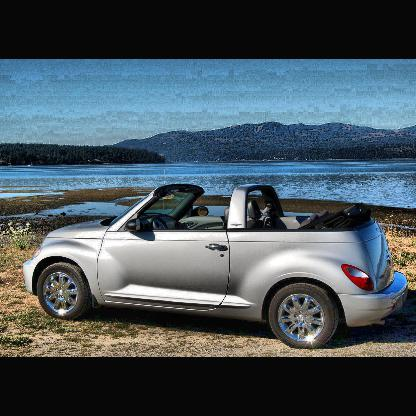Chrysler PT Cruiser Convertible 2008: (22, 184, 409, 350)
